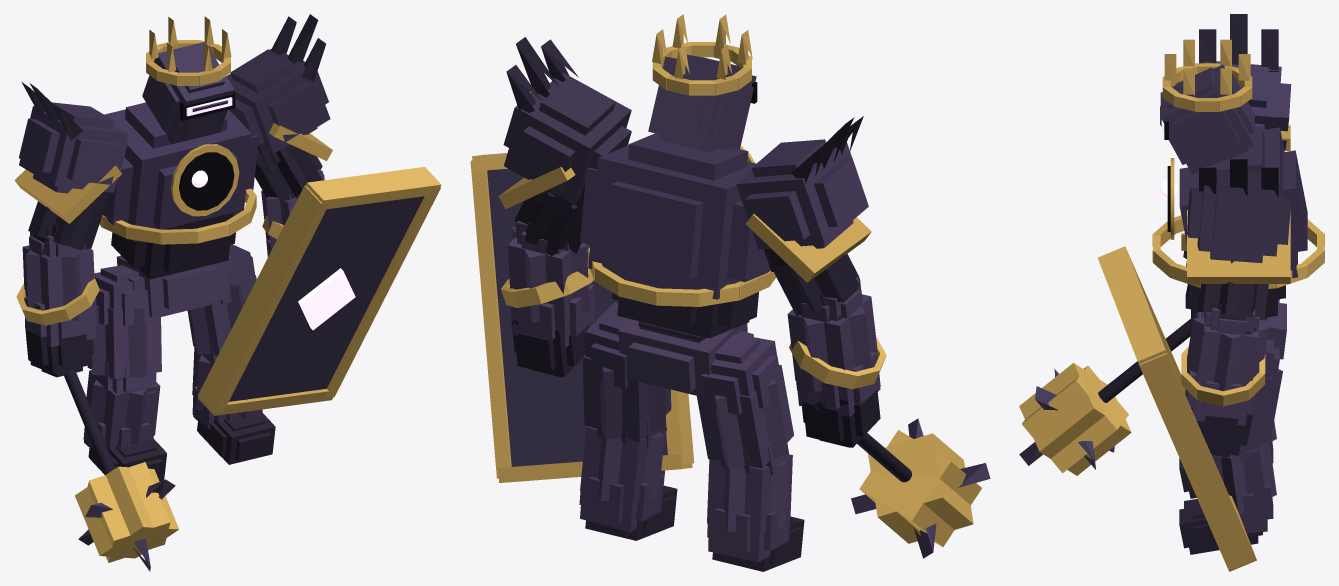
The picture shows the model from 3 angles, left to right: view 1: azimuth 30°, elevation 25°; view 2: azimuth 150°, elevation 25°; view 3: azimuth 270°, elevation 25°; orthographic projection. The views are drawn at different scales.
Parts seen in each view (by area): view 1: ThroneWarden; view 2: ThroneWarden; view 3: ThroneWarden.
Part boxes in pixels (x1,y1,x2,y2): ThroneWarden: (14,14,441,571); ThroneWarden: (470,14,990,571); ThroneWarden: (1019,14,1324,571).
Size of the model in its own units: 1.39 by 1.52 by 0.8781.
